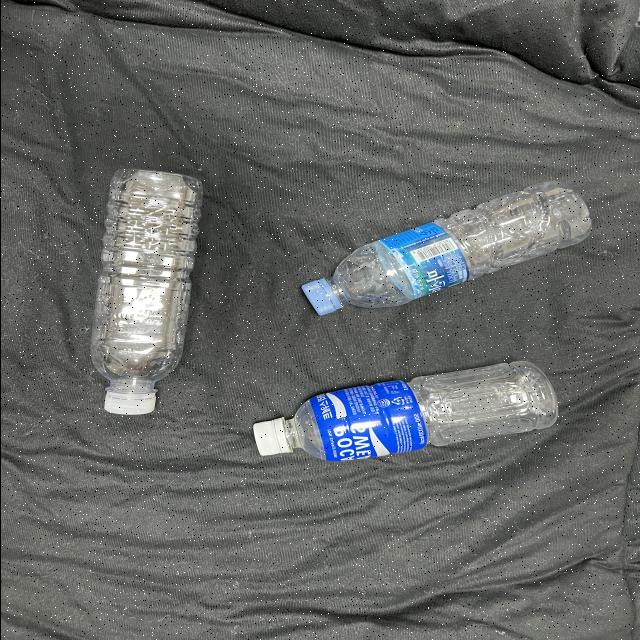plastic: (278, 169, 605, 333), (235, 347, 572, 482), (80, 155, 213, 424)
